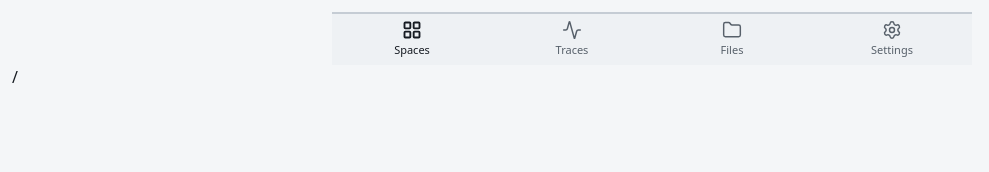
Test: BottomNav files › shows Files between Traces and Settings and navigates
The width and height of the screenshot is (989, 172).
Expected: the button "Traces" is shown, [492,14,652,64]
Click the button "Files".
click(732, 39)  # box [652,14,812,64]
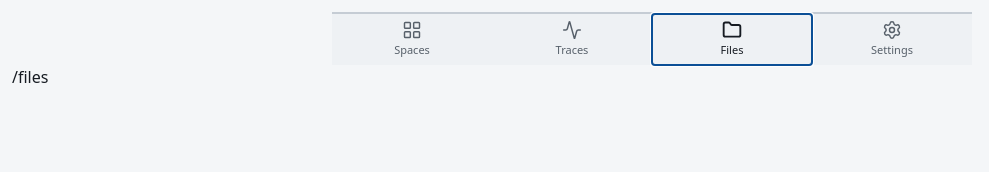
Now the text with test id "loc" reads "/files", box [12,66,48,88]
